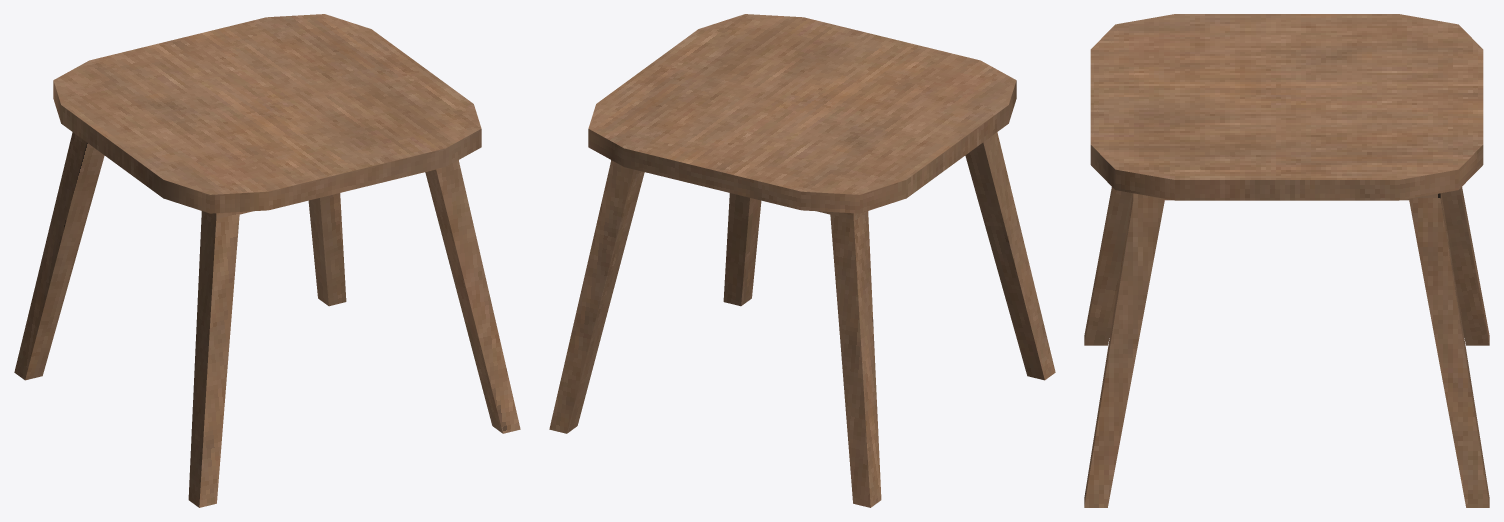
File: bench.glb
The picture shows the model from 3 angles, left to right: view 1: azimuth 30°, elevation 25°; view 2: azimuth 150°, elevation 25°; view 3: azimuth 270°, elevation 25°; orthographic projection. The views are drawn at different scales.
Visible parts, largest first — view 1: Chair_04.005-col; view 2: Chair_04.005-col; view 3: Chair_04.005-col.
Part boxes in pixels (<box>): Chair_04.005-col: <box>14,14,520,507</box>; Chair_04.005-col: <box>549,14,1055,507</box>; Chair_04.005-col: <box>1084,14,1489,507</box>.
Bounding box in the file's own units: 0.6141 × 0.5417 × 0.6124.
Materials: 1 (1 with a texture image).
